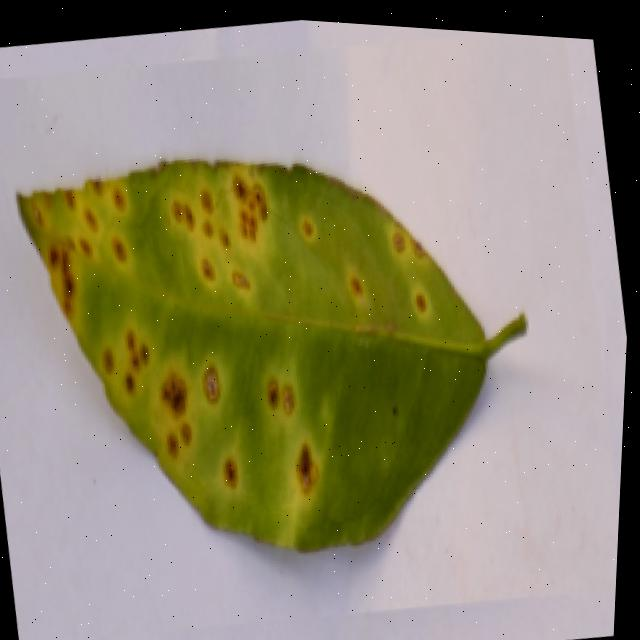canker: (18, 161, 524, 550), (0, 76, 469, 388), (59, 291, 359, 539)
